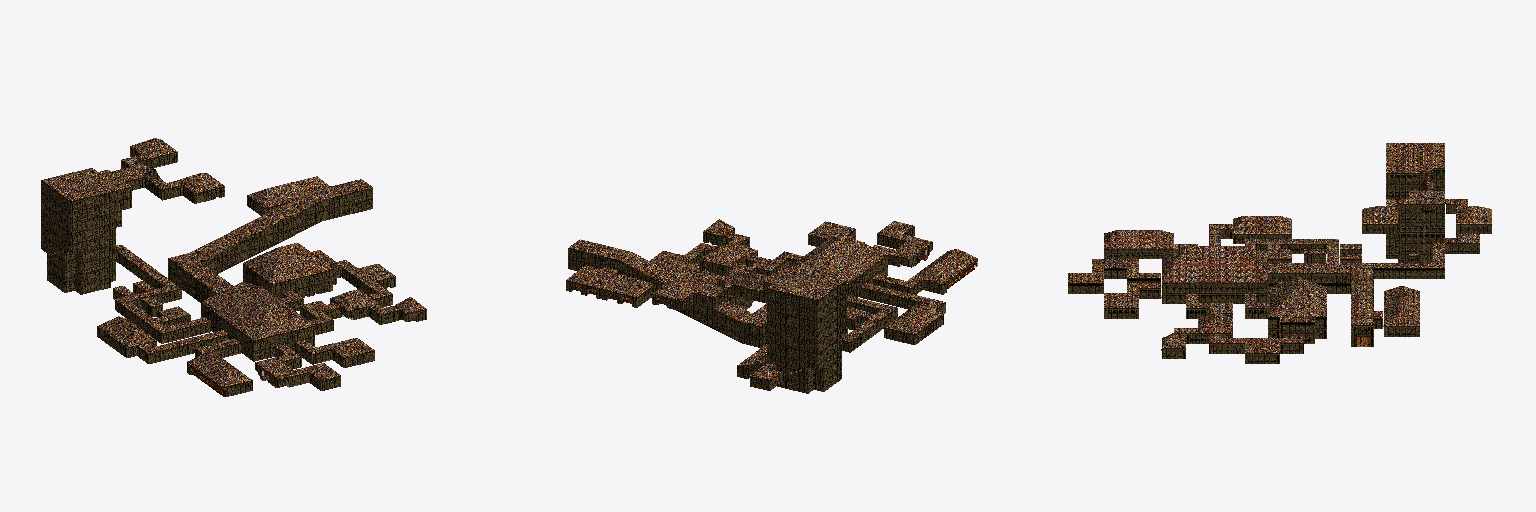
The picture shows the model from 3 angles: view 1: azimuth 30°, elevation 25°; view 2: azimuth 150°, elevation 25°; view 3: azimuth 270°, elevation 25°; orthographic projection.
Parts seen in each view (by area): view 1: Room32, Room2, Room8, Room6, Room5, Room1, Room22, Room4, Room20, Room19, Room34, Room9 (+13 smaller); view 2: Room32, Room2, Room6, Room4, Room22, Room20, Room19, Room35, Room37, Room8, Room38, Room28 (+9 smaller); view 3: Room32, Room6, Room8, Room1, Room5, Room22, Room4, Room2, Room34, Room20, Room9, Room35 (+9 smaller).
Part boxes in pixels (bbox=[...]): Room32: bbox=[41, 168, 131, 294]; Room2: bbox=[189, 179, 372, 273]; Room8: bbox=[243, 243, 336, 298]; Room6: bbox=[202, 282, 314, 339]; Room5: bbox=[201, 302, 314, 361]; Room1: bbox=[168, 253, 232, 302]; Room22: bbox=[187, 352, 252, 396]; Room4: bbox=[247, 176, 330, 215]; Room20: bbox=[97, 316, 156, 357]; Room19: bbox=[137, 330, 228, 363]; Room34: bbox=[116, 245, 181, 303]; Room9: bbox=[337, 260, 392, 306]; Room32: bbox=[762, 264, 846, 393]; Room2: bbox=[568, 239, 752, 342]; Room6: bbox=[792, 234, 887, 283]; Room4: bbox=[566, 266, 654, 307]; Room22: bbox=[913, 249, 977, 294]; Room20: bbox=[884, 303, 943, 344]; Room19: bbox=[860, 283, 945, 313]; Room35: bbox=[717, 264, 764, 302]; Room37: bbox=[652, 280, 699, 311]; Room8: bbox=[673, 263, 763, 309]; Room38: bbox=[699, 246, 746, 275]; Room28: bbox=[889, 237, 932, 267]; Room32: bbox=[1386, 143, 1455, 262]; Room6: bbox=[1162, 246, 1267, 282]; Room8: bbox=[1268, 276, 1326, 343]; Room1: bbox=[1268, 263, 1373, 293]; Room5: bbox=[1162, 283, 1267, 303]; Room22: bbox=[1104, 230, 1173, 258]; Room4: bbox=[1383, 286, 1419, 336]; Room2: bbox=[1351, 273, 1373, 346]; Room34: bbox=[1327, 243, 1444, 278]; Room20: bbox=[1233, 216, 1291, 243]; Room9: bbox=[1209, 334, 1303, 353]; Room35: bbox=[1409, 174, 1444, 213].
Bounding box in the file's own units: 7680 × 2304 × 9216.
53 materials, 44 textured.